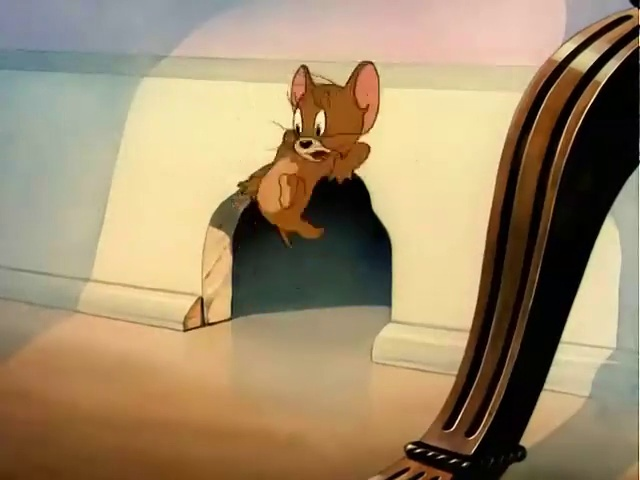jerry: (227, 55, 413, 268)
